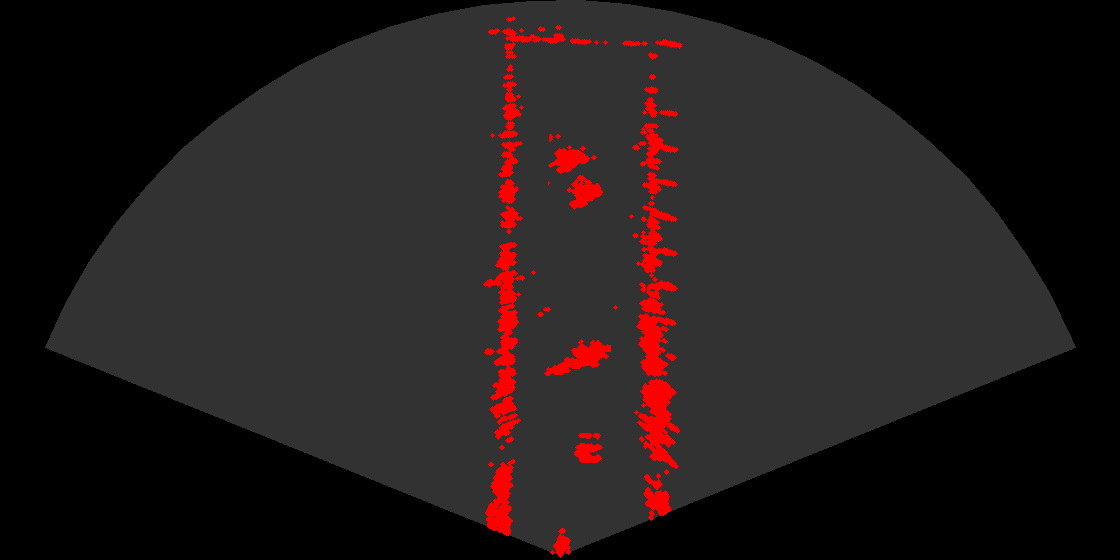ball: (554, 425, 614, 466)
cage: (548, 134, 611, 218)
frogman: (543, 333, 611, 380)
